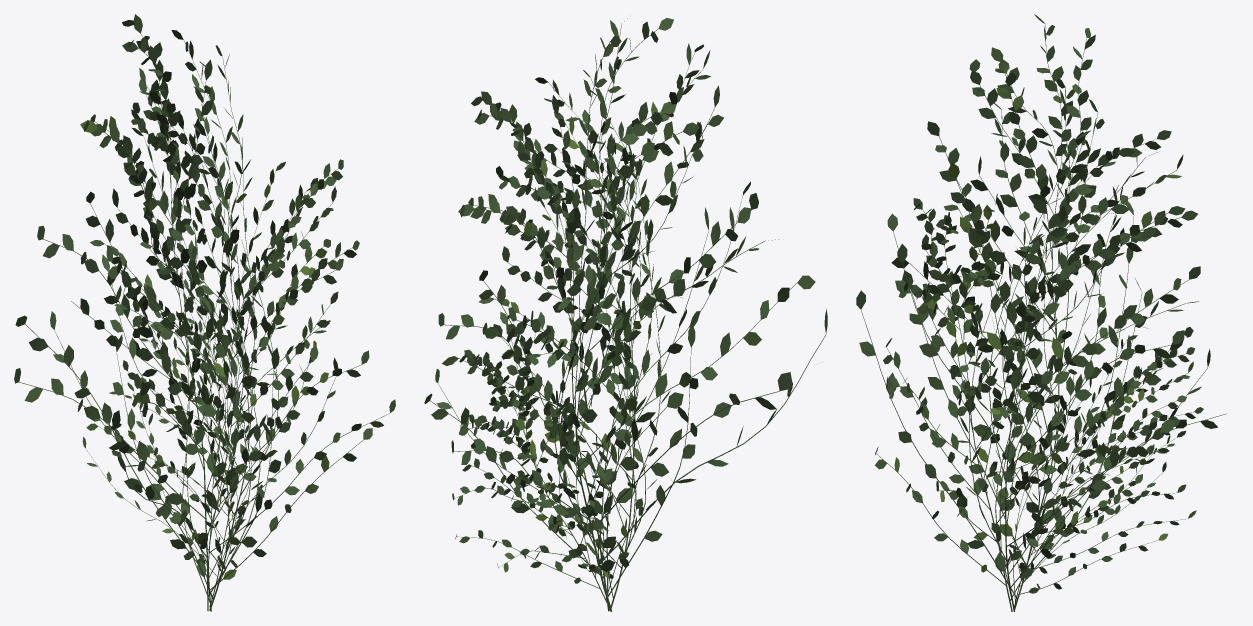
Rendered from bush4.glb.
3 views of the same model, side by side, from view 1: azimuth 30°, elevation 25°; view 2: azimuth 150°, elevation 25°; view 3: azimuth 270°, elevation 25° (orthographic). The views are drawn at different scales.
Visible parts, largest first — view 1: bush4; view 2: bush4; view 3: bush4.
Boxes of the visible parts, x1,y1,x2,y2 form: bush4: (14, 14, 395, 611); bush4: (424, 18, 827, 611); bush4: (856, 14, 1226, 611).
Size of the model in its own units: 0.5424 by 0.9063 by 0.5554.
1 material, 1 textured.
